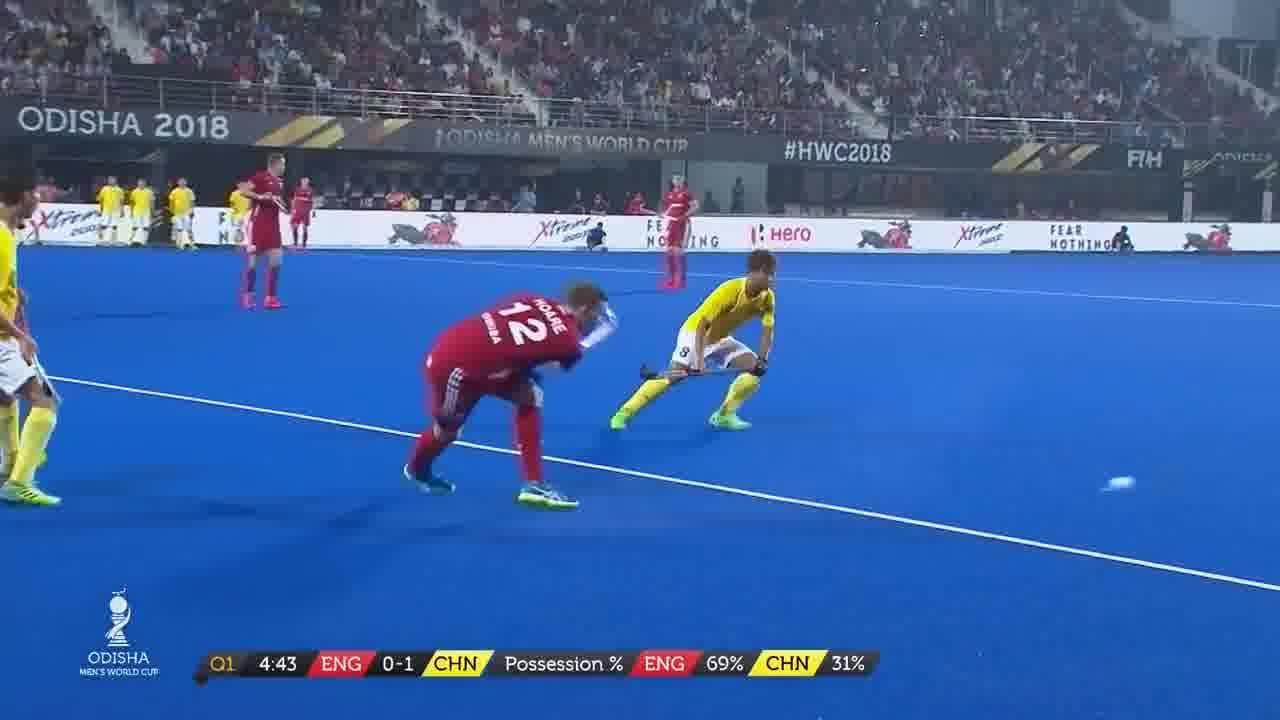ball: (1100, 473, 1139, 497)
